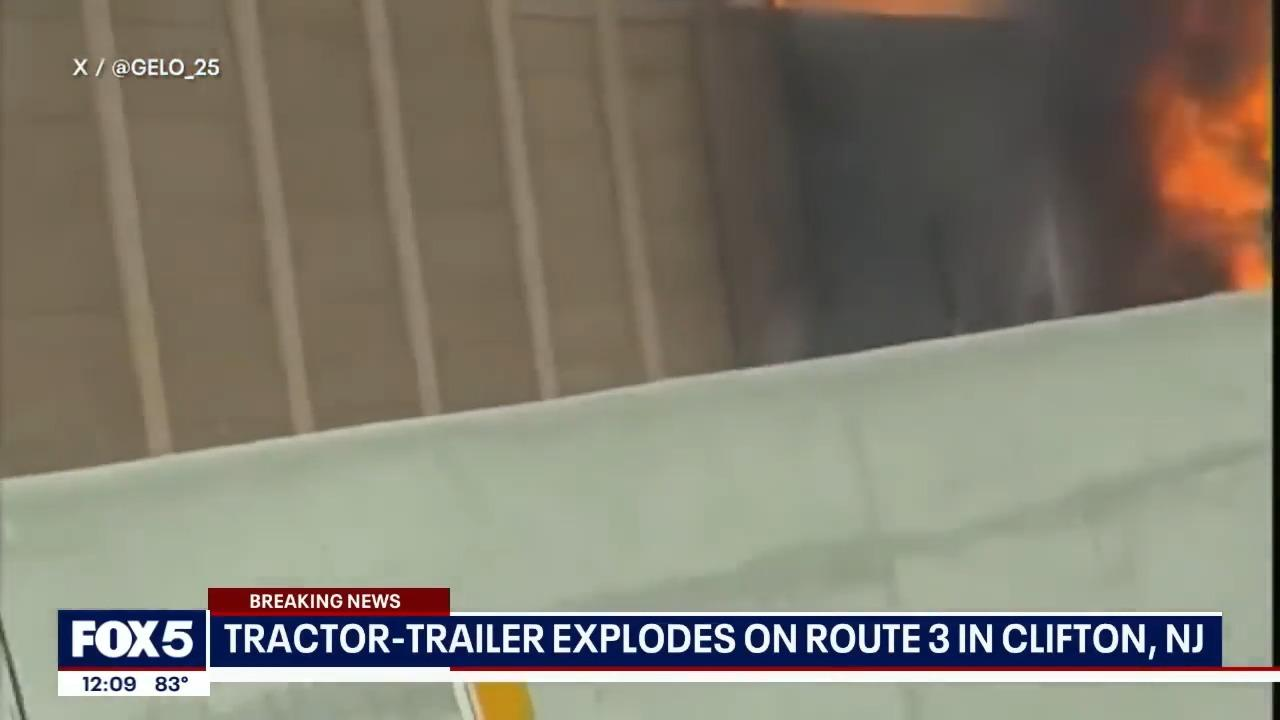fire: (1129, 79, 1280, 281)
